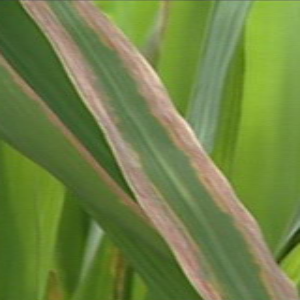Bacterial_Blight: (144, 112, 285, 300)
